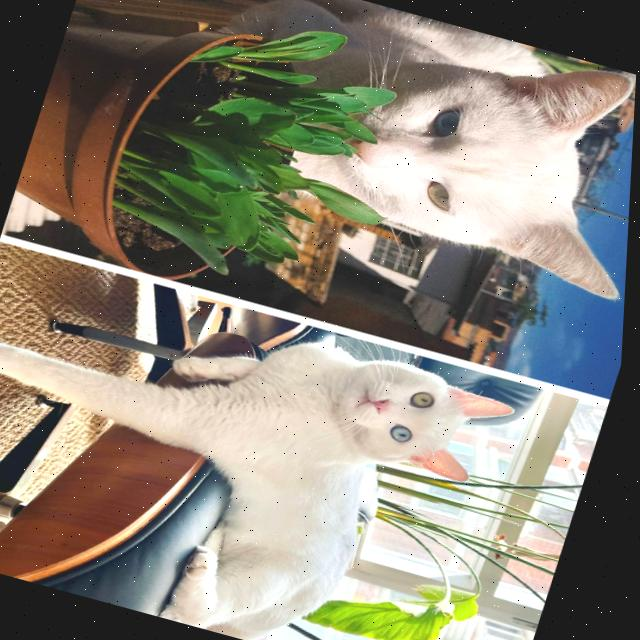Khao Manee: (0, 250, 535, 640), (268, 0, 640, 310)
